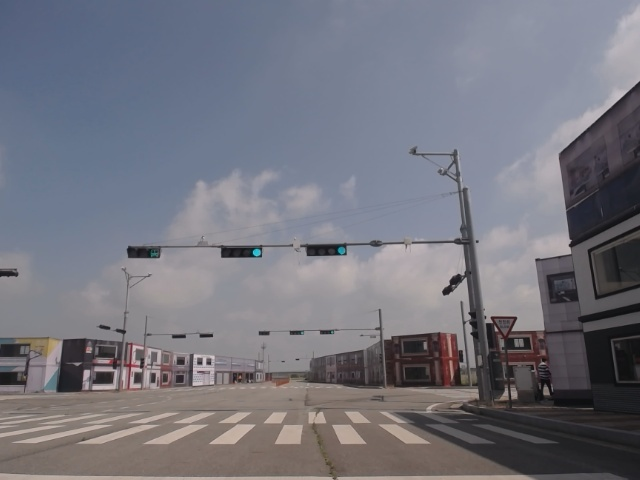straight_green_4: (221, 246, 262, 258), (306, 244, 347, 255)
